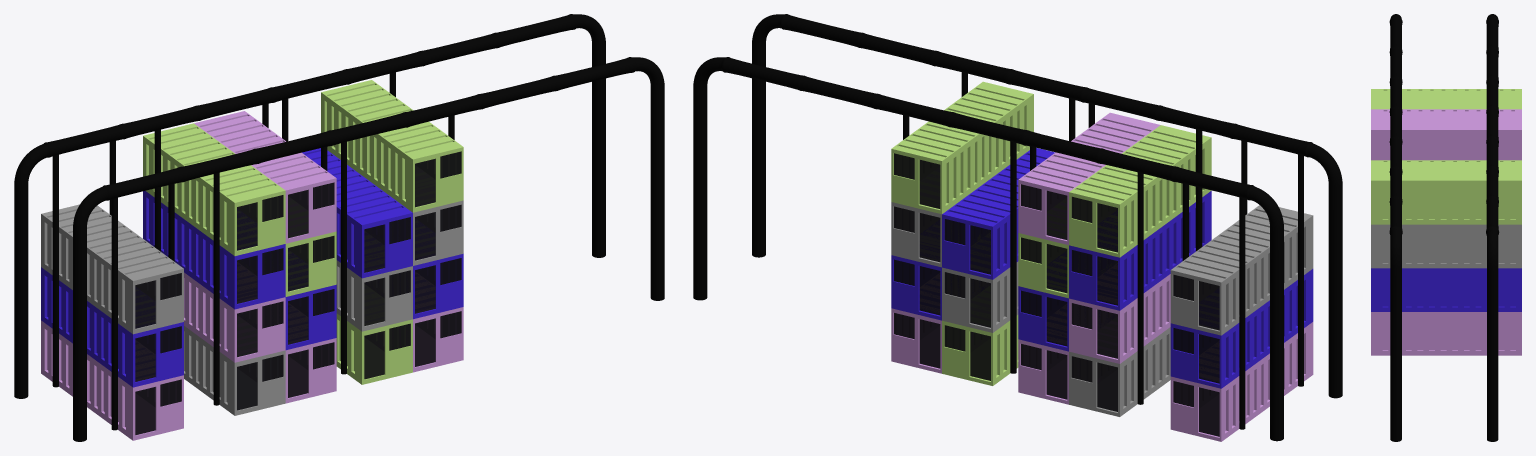
Rendered from pipes.glb.
The picture shows the model from 3 angles, left to right: view 1: azimuth 30°, elevation 25°; view 2: azimuth 150°, elevation 25°; view 3: azimuth 270°, elevation 25°; orthographic projection. The views are drawn at different scales.
Visible parts, largest first — view 1: Torus, Cube.020, Cube.007, Cube.002, Cube.006, Cube.013, Cube.016, Cube.004, Cube.001, Cube.003, Cube.005, Cube.014 (+7 smaller); view 2: Torus, Cube.020, Cube.002, Cube.007, Cube.006, Cube.013, Cube.016, Cube.004, Cube.001, Cube.005, Cube.003, Cube.015 (+7 smaller); view 3: Torus, Cube.020, Cube.013, Cube.019, Cube.017, Cube.018, Cube.007.
Boxes of the visible parts, box(x1,y1,x2,y2) form: Torus: box(14, 14, 664, 441); Cube.020: box(321, 80, 463, 212); Cube.007: box(143, 123, 285, 255); Cube.002: box(41, 204, 183, 334); Cube.006: box(143, 191, 285, 309); Cube.013: box(194, 111, 336, 243); Cube.016: box(302, 148, 412, 278); Cube.004: box(41, 320, 183, 440); Cube.001: box(41, 267, 183, 387); Cube.003: box(184, 326, 285, 415); Cube.005: box(184, 272, 285, 362); Cube.014: box(336, 313, 412, 384); Torus: box(693, 14, 1342, 441); Cube.020: box(891, 81, 1033, 214); Cube.002: box(1170, 205, 1313, 335); Cube.007: box(1069, 125, 1211, 257); Cube.006: box(1069, 191, 1211, 310); Cube.013: box(1018, 112, 1160, 245); Cube.016: box(942, 148, 1055, 279); Cube.004: box(1170, 322, 1313, 441); Cube.001: box(1170, 269, 1313, 388); Cube.005: box(1069, 274, 1170, 363); Cube.003: box(1069, 327, 1170, 416); Cube.015: box(942, 261, 1018, 332); Torus: box(1389, 14, 1499, 441); Cube.020: box(1371, 160, 1521, 224); Cube.013: box(1371, 109, 1521, 160); Cube.019: box(1371, 224, 1521, 268); Cube.017: box(1371, 312, 1521, 355); Cube.018: box(1371, 268, 1521, 311); Cube.007: box(1371, 89, 1521, 109).
Bounding box in the file's own units: 46.38 × 18.55 × 12.51.
